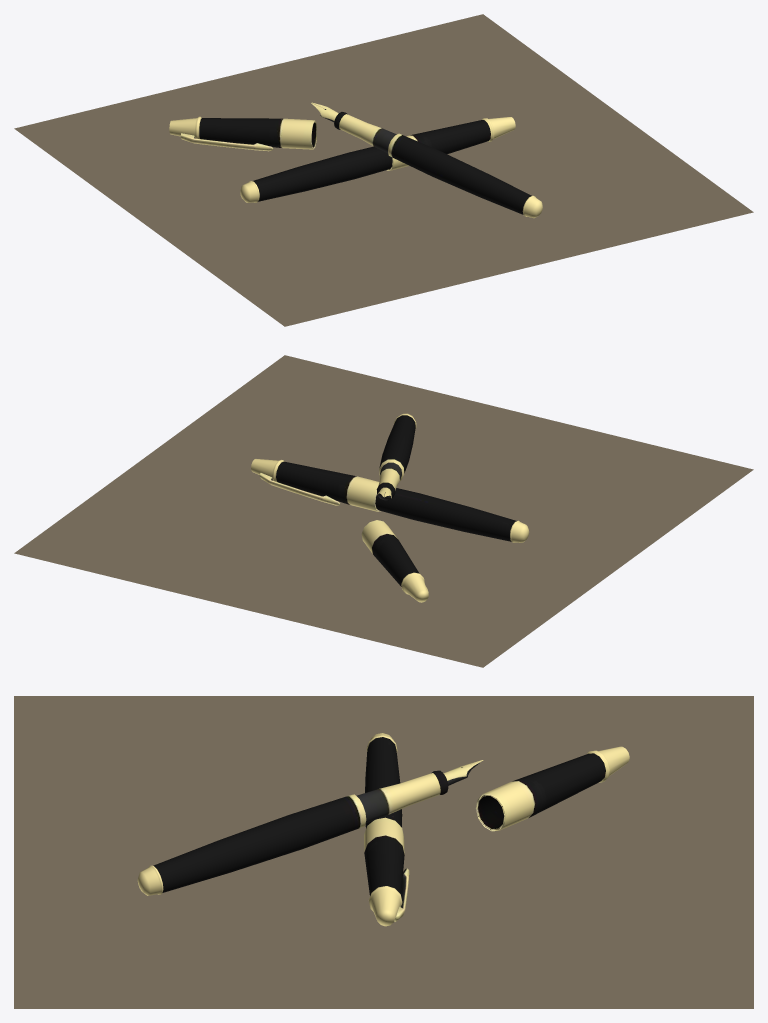
The model's file is obj_fountain_pens.glb.
3 views of the same model, one above another, from view 1: azimuth 30°, elevation 25°; view 2: azimuth 150°, elevation 25°; view 3: azimuth 270°, elevation 25° (orthographic). The views are drawn at different scales.
Visible parts, largest first — view 1: body_low_pen_0; view 2: body_low_pen_0; view 3: body_low_pen_0.
Boxes of the visible parts, box(x1,y1,x2,y2) form: body_low_pen_0: box(14, 14, 753, 326); body_low_pen_0: box(14, 355, 753, 667); body_low_pen_0: box(14, 696, 753, 1008).
Bounding box in the file's own units: 0.16 × 0.0165 × 0.16.
Materials: 2 (1 with a texture image).
